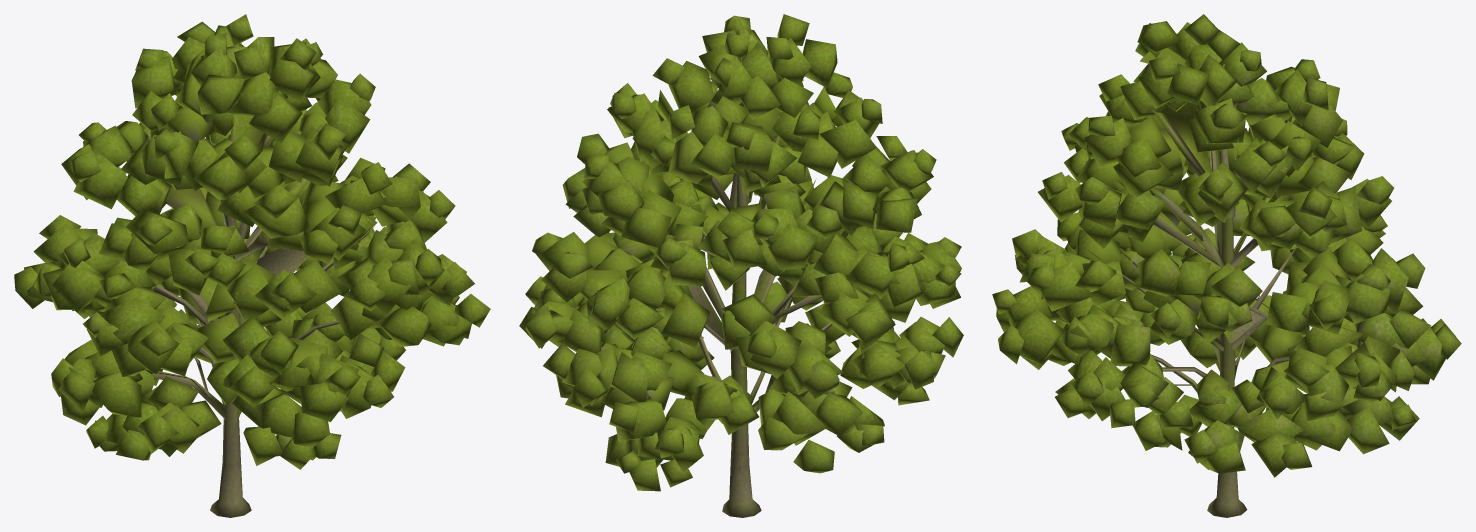
Rendered from canopy-tree.glb.
3 views of the same model, side by side, from view 1: azimuth 30°, elevation 25°; view 2: azimuth 150°, elevation 25°; view 3: azimuth 270°, elevation 25° (orthographic). The views are drawn at different scales.
Bounding box in the file's own units: 0.8149 × 0.9969 × 0.8829.
Materials: 1 (1 with a texture image).
